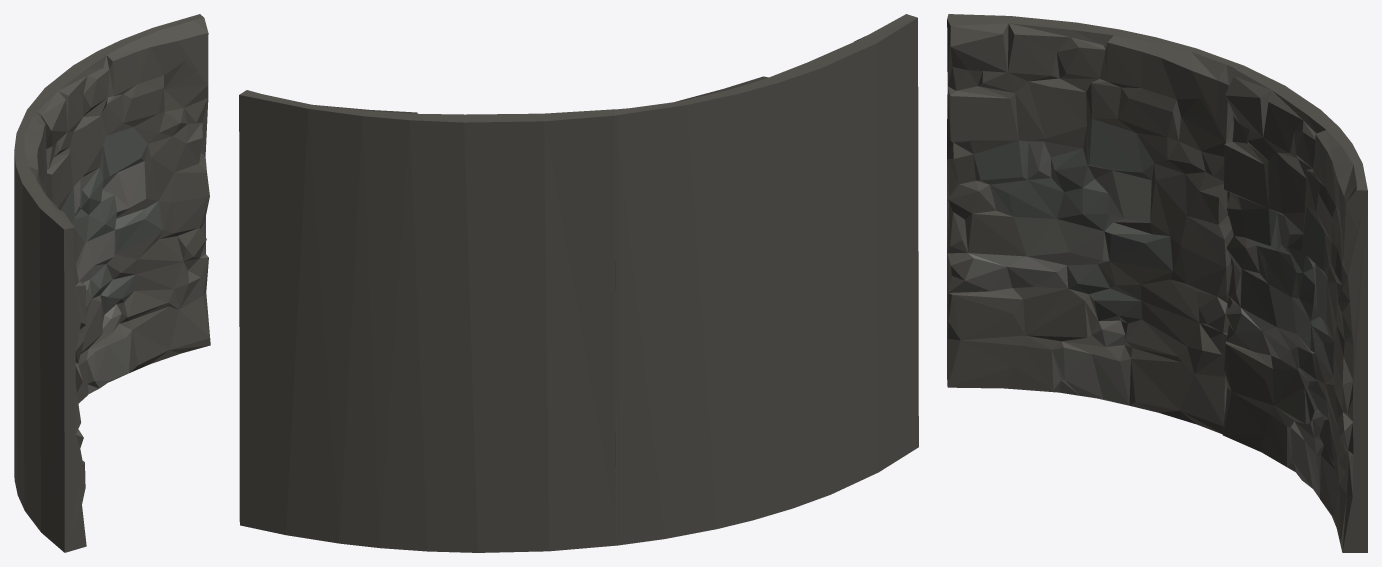
The model's file is MDungeon_Walls_Base_Curve.FBX.
3 views of the same model, side by side, from view 1: azimuth 30°, elevation 25°; view 2: azimuth 150°, elevation 25°; view 3: azimuth 270°, elevation 25° (orthographic). The views are drawn at different scales.
Parts seen in each view (by area): view 1: MDungeon_Walls_Base_Curve_LOD0; view 2: MDungeon_Walls_Base_Curve_LOD0; view 3: MDungeon_Walls_Base_Curve_LOD0.
Part boxes in pixels (<box>): MDungeon_Walls_Base_Curve_LOD0: <box>14,14,210,552</box>; MDungeon_Walls_Base_Curve_LOD0: <box>239,14,918,552</box>; MDungeon_Walls_Base_Curve_LOD0: <box>947,14,1367,552</box>.
Size of what is drawn, in the model's own units: 6.3 by 6.02 by 6.33.
